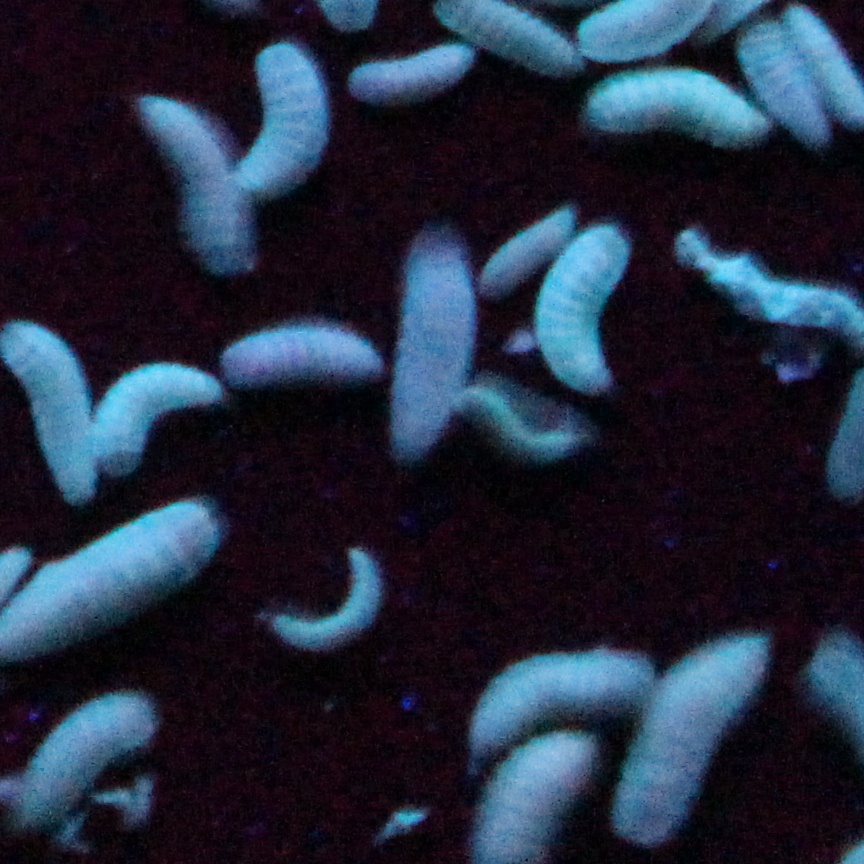larve: (616, 636, 763, 835), (10, 692, 157, 823), (144, 96, 250, 276), (477, 646, 646, 748), (391, 241, 471, 451), (241, 45, 323, 207), (545, 238, 625, 395), (93, 366, 210, 467), (592, 75, 752, 144), (271, 552, 384, 648), (741, 25, 825, 150), (219, 326, 378, 389), (483, 211, 571, 288), (348, 43, 470, 95)
